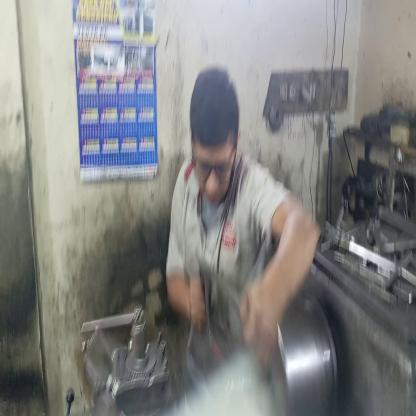lentes: (192, 139, 237, 186)
